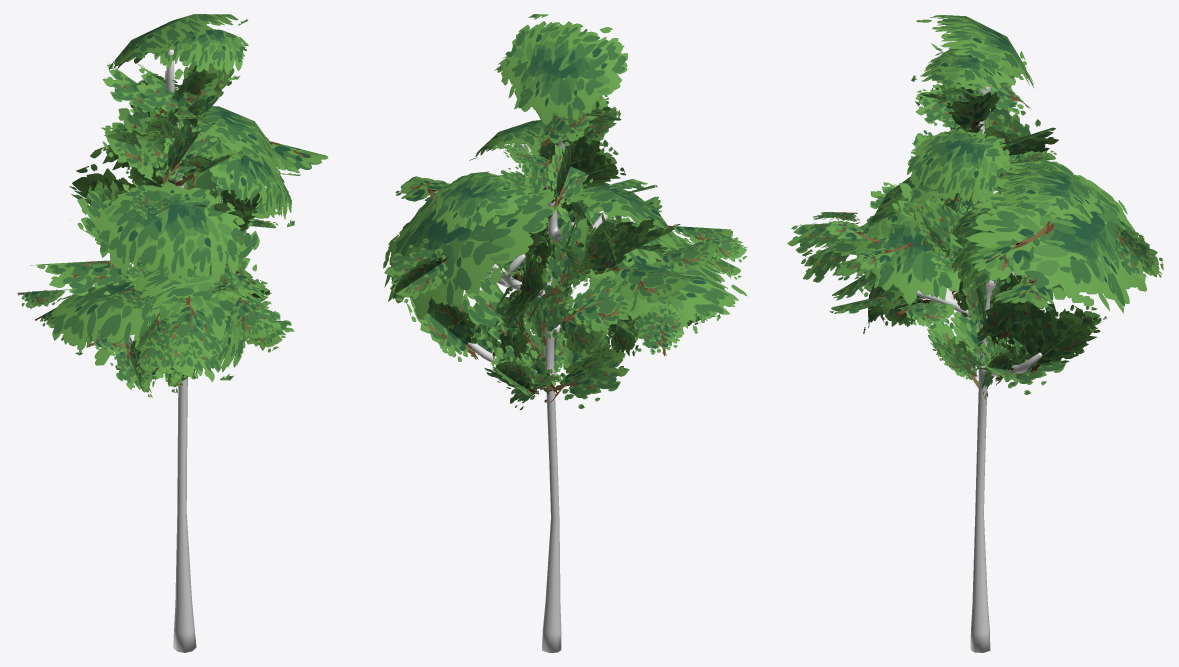
The model's file is arbol 2.fbx.
The picture shows the model from 3 angles, left to right: view 1: azimuth 30°, elevation 25°; view 2: azimuth 150°, elevation 25°; view 3: azimuth 270°, elevation 25°; orthographic projection. The views are drawn at different scales.
Visible parts, largest first — view 1: arbol1; view 2: arbol1; view 3: arbol1.
Part boxes in pixels (x1,y1,x2,y2): arbol1: (17, 14, 327, 652); arbol1: (383, 14, 747, 652); arbol1: (787, 15, 1163, 652).
Bounding box in the file's own units: 1898 × 3513 × 1951.
2 materials, 1 textured.
